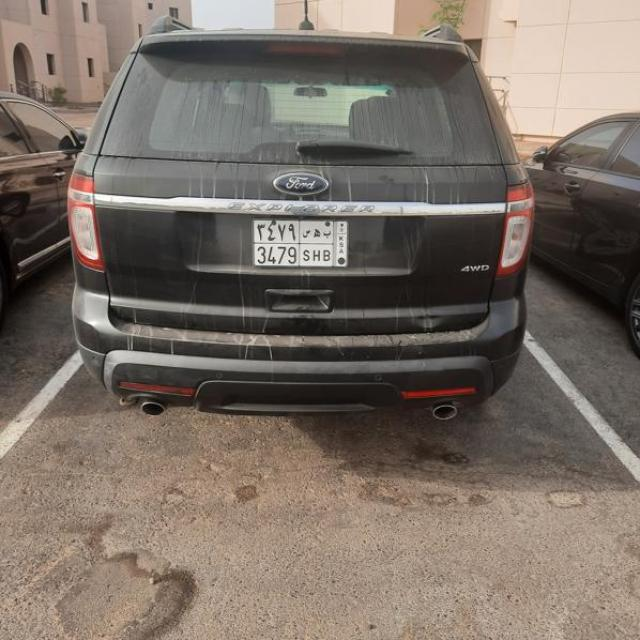license_plate: (254, 220, 348, 268)
